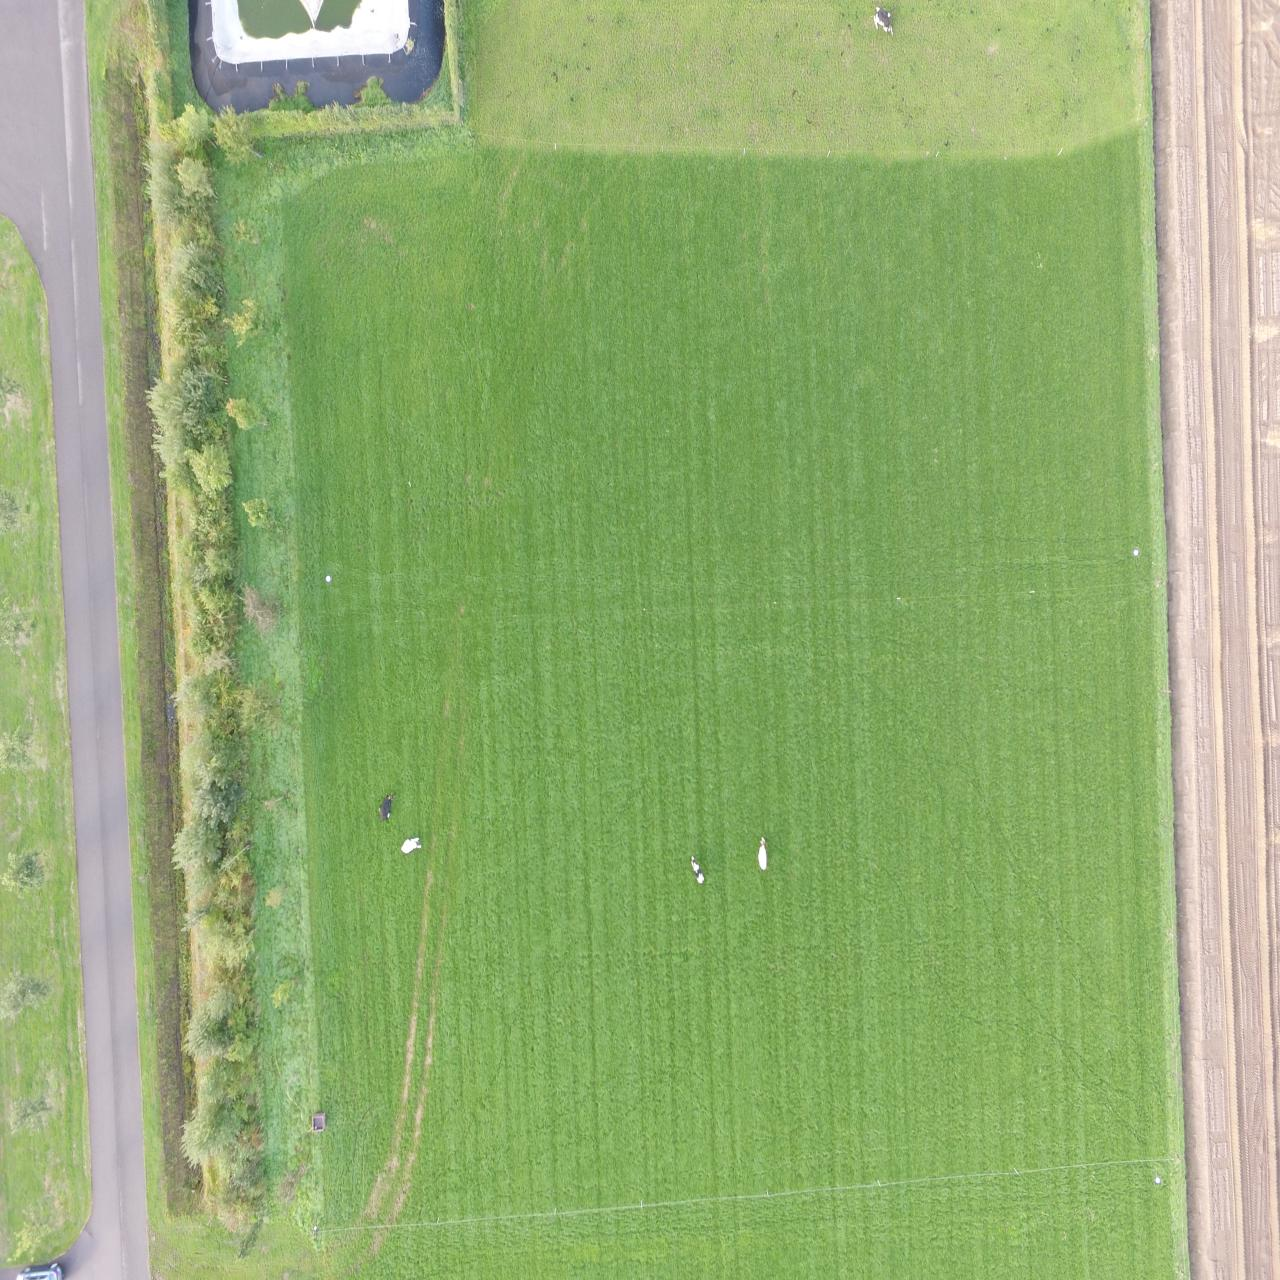cow: (376, 792, 396, 819), (688, 853, 703, 884), (401, 836, 422, 855), (757, 837, 767, 873)
